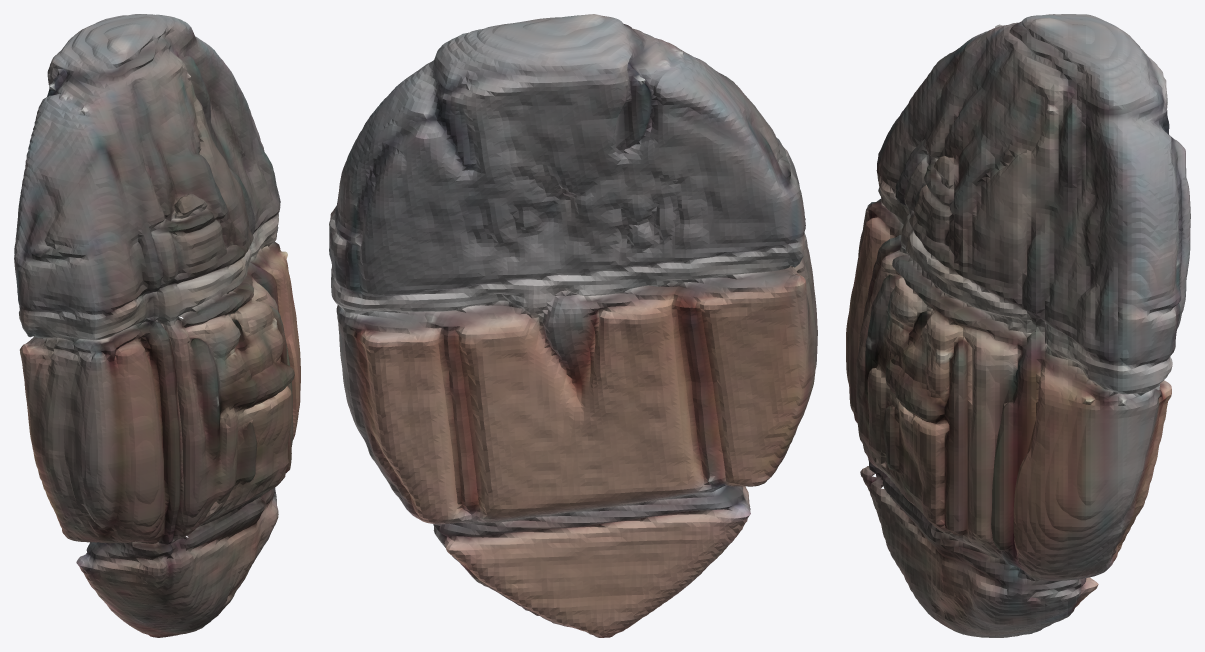
The model's file is tmphmia74fc.glb.
3 renders of one model, left to right at view 1: azimuth 30°, elevation 25°; view 2: azimuth 150°, elevation 25°; view 3: azimuth 270°, elevation 25°, orthographic. The views are drawn at different scales.
Visible parts, largest first — view 1: world; view 2: world; view 3: world.
Part boxes in pixels (bbox=[...]): world: bbox=[14, 14, 300, 637]; world: bbox=[329, 14, 817, 637]; world: bbox=[846, 14, 1190, 637].
Bounding box in the file's own units: 0.6183 × 1 × 0.5162.
